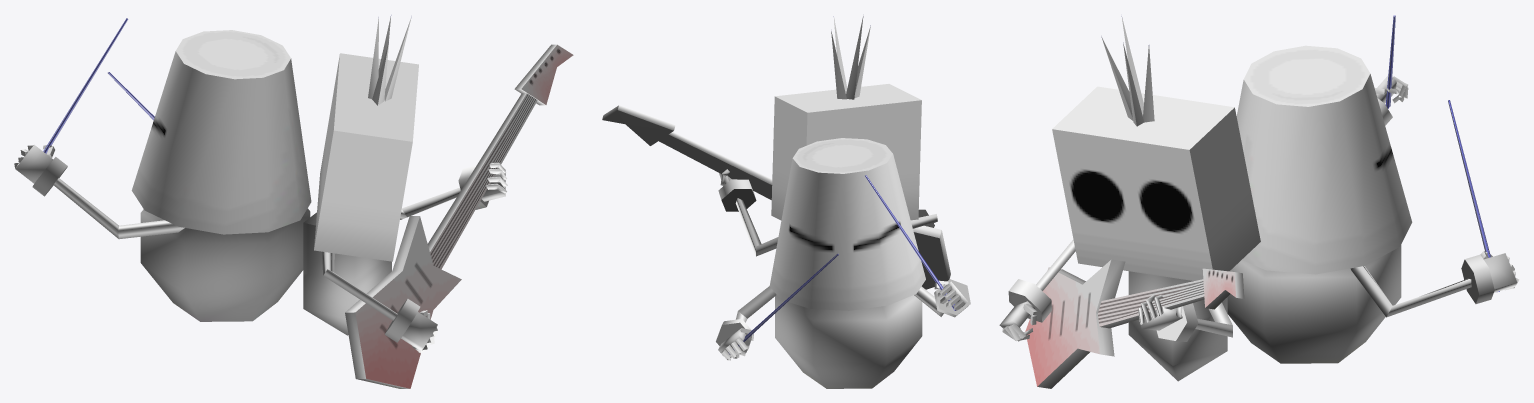
The model's file is gfdm.ico.obj.
The picture shows the model from 3 angles, left to right: view 1: azimuth 30°, elevation 25°; view 2: azimuth 150°, elevation 25°; view 3: azimuth 270°, elevation 25°; orthographic projection. The views are drawn at different scales.
Size of the model in its own units: 4.88 by 3.32 by 4.1.
Materials: 1 (1 with a texture image).
